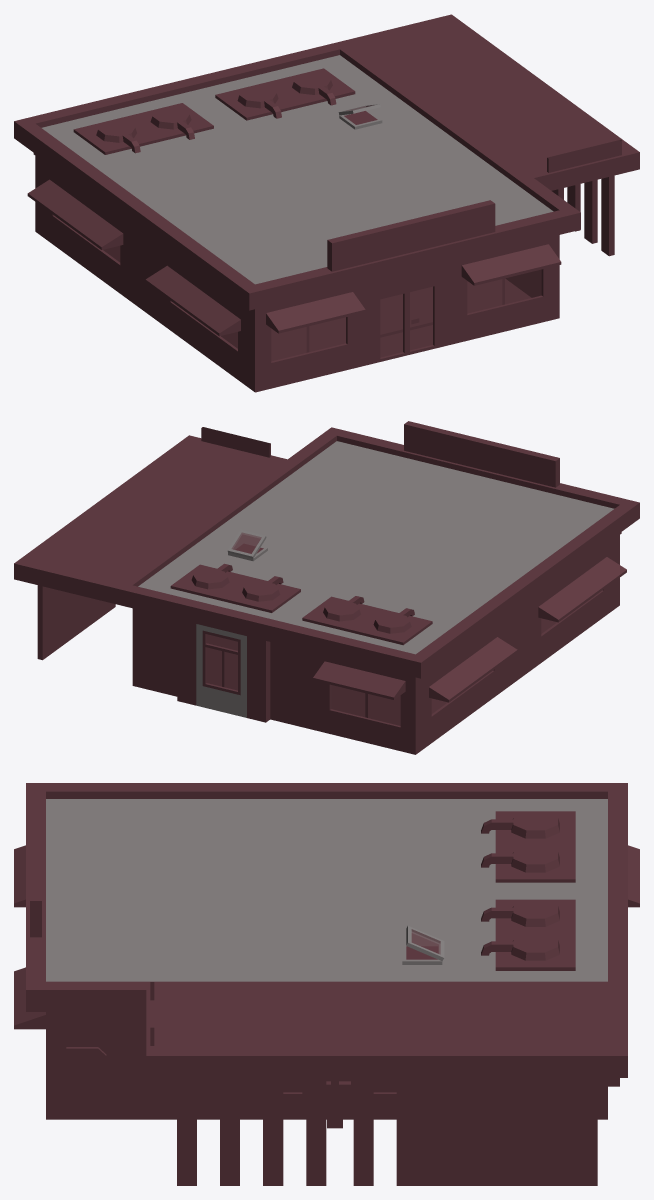
The model's file is building-burger-joint.fbx.
3 views of the same model, one above another, from view 1: azimuth 30°, elevation 25°; view 2: azimuth 150°, elevation 25°; view 3: azimuth 270°, elevation 25° (orthographic). The views are drawn at different scales.
Parts seen in each view (by area): view 1: building-burger-joint; view 2: building-burger-joint; view 3: building-burger-joint.
Boxes of the visible parts, x1=… form: building-burger-joint: x1=14, y1=14, x2=639, y2=392; building-burger-joint: x1=14, y1=421, x2=639, y2=754; building-burger-joint: x1=14, y1=783, x2=639, y2=1185.
Bounding box in the file's own units: 16.4 × 4.8 × 15.6.
